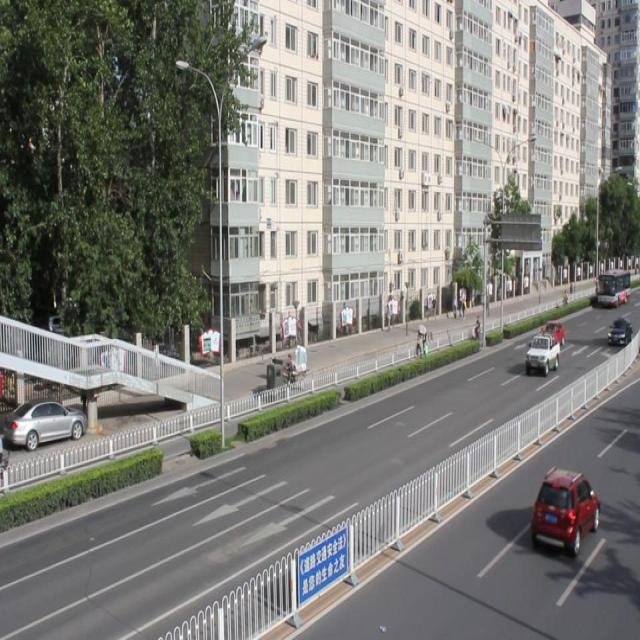car: (528, 467, 599, 553), (523, 332, 557, 373)
